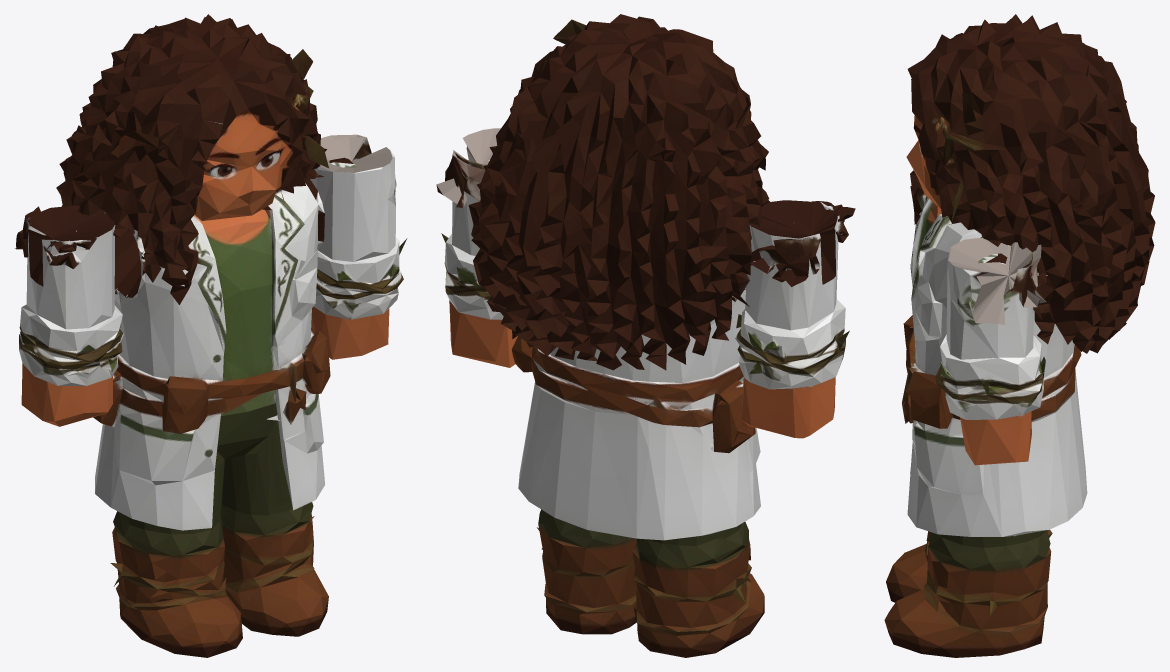
Rendered from Hera_R6_Auto_v3.fbx.
The picture shows the model from 3 angles, left to right: view 1: azimuth 30°, elevation 25°; view 2: azimuth 150°, elevation 25°; view 3: azimuth 270°, elevation 25°; orthographic projection. The views are drawn at different scales.
Parts seen in each view (by area): view 1: Torso, Head, RightLeg, LeftLeg, RightArm, LeftArm; view 2: Head, Torso, RightLeg, RightArm, LeftLeg, LeftArm; view 3: Head, LeftLeg, Torso, LeftArm, RightLeg.
Part boxes in pixels (x1,y1,x2,y2): Torso: (56, 157, 347, 518); Head: (59, 14, 356, 238); RightLeg: (95, 421, 243, 657); LeftLeg: (221, 396, 328, 636); RightArm: (15, 205, 123, 426); LeftArm: (310, 134, 407, 359); Head: (480, 14, 792, 265); Torso: (468, 160, 794, 526); RightLeg: (594, 427, 764, 657); RightArm: (735, 200, 855, 438); LeftLeg: (518, 403, 636, 634); LeftArm: (436, 128, 517, 367); Head: (906, 14, 1154, 263); LeftLeg: (884, 405, 1087, 657); Torso: (902, 170, 1155, 536); LeftArm: (935, 237, 1047, 465); RightLeg: (886, 386, 1086, 602).
Bounding box in the file's own units: 4.16 × 5.84 × 2.46.
1 material, 1 textured.
